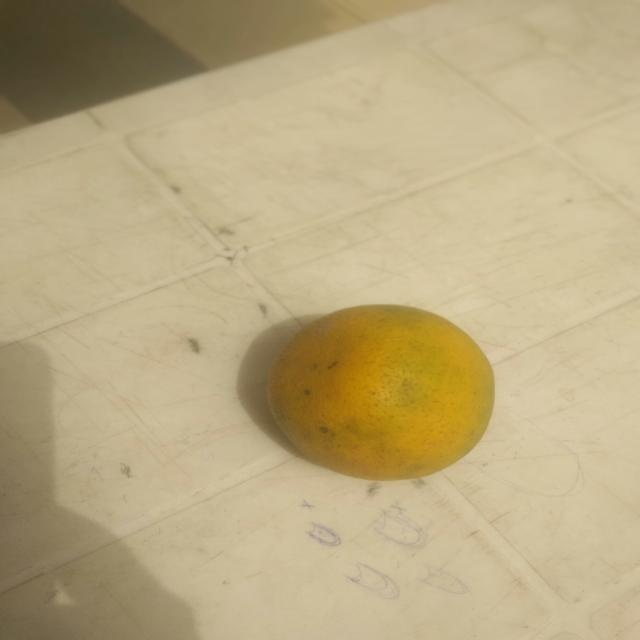agrume: (261, 282, 515, 506)
